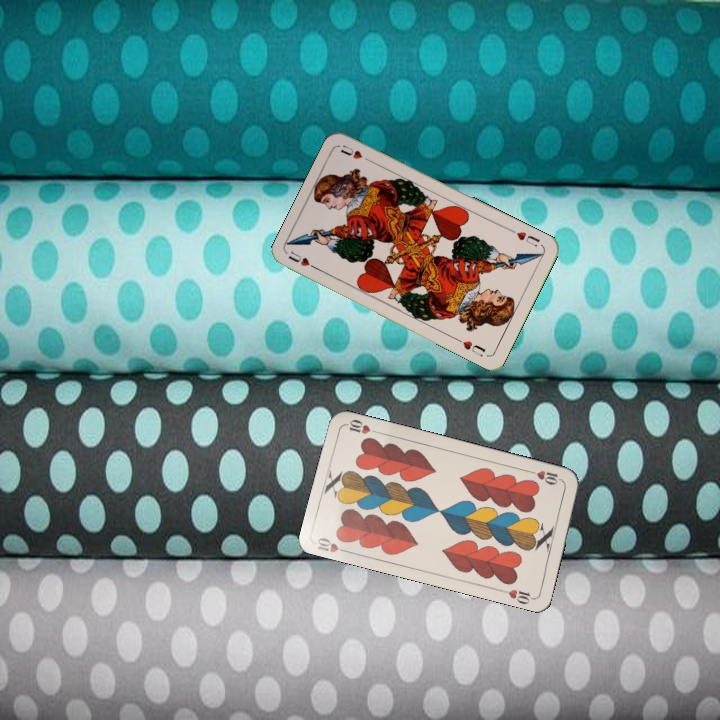H10: (312, 533, 352, 556), (525, 466, 565, 487)
HU: (284, 247, 322, 273), (513, 227, 542, 249)
